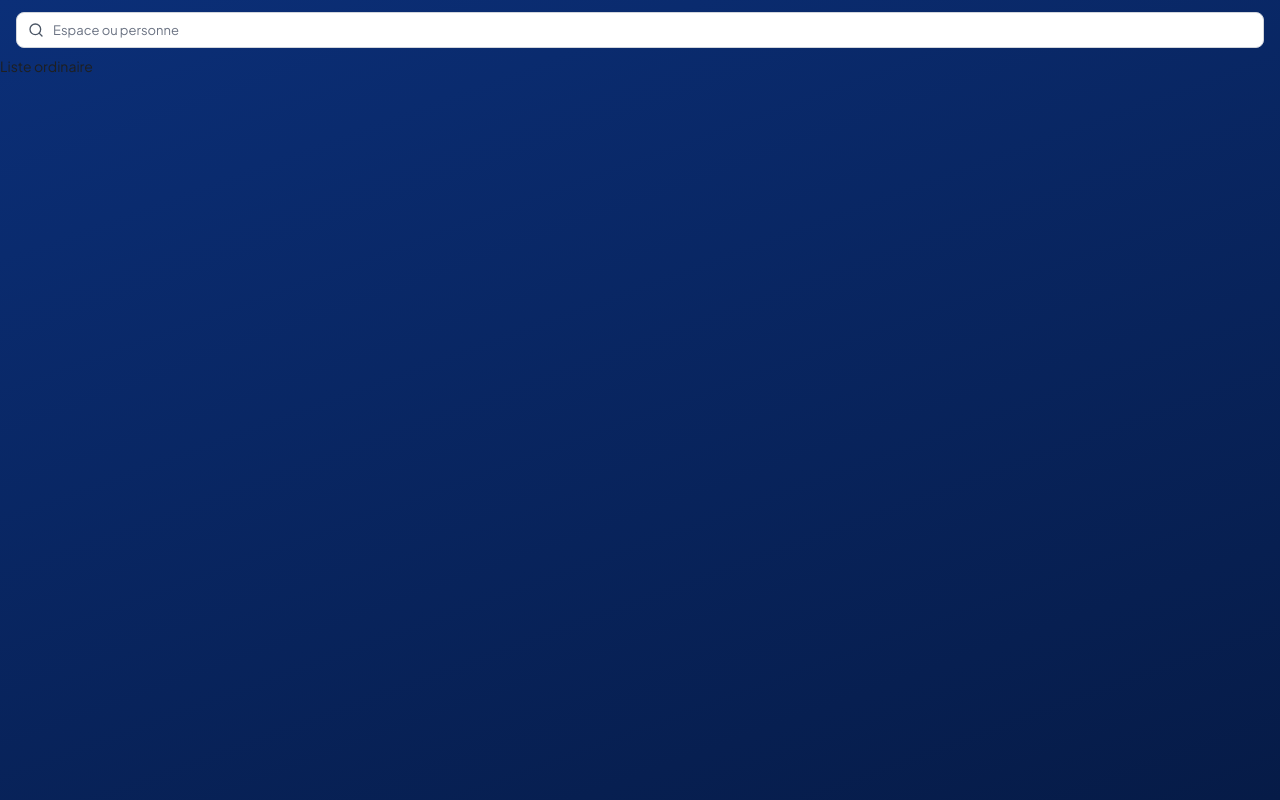
Test case: recherche des salons et messages › montre la raison du serveur quand la conversation ne s'ouvre pas
The image size is (1280, 800).
Step 1. Type "awa" into the search field → [640, 30], box [16, 12, 1264, 48]
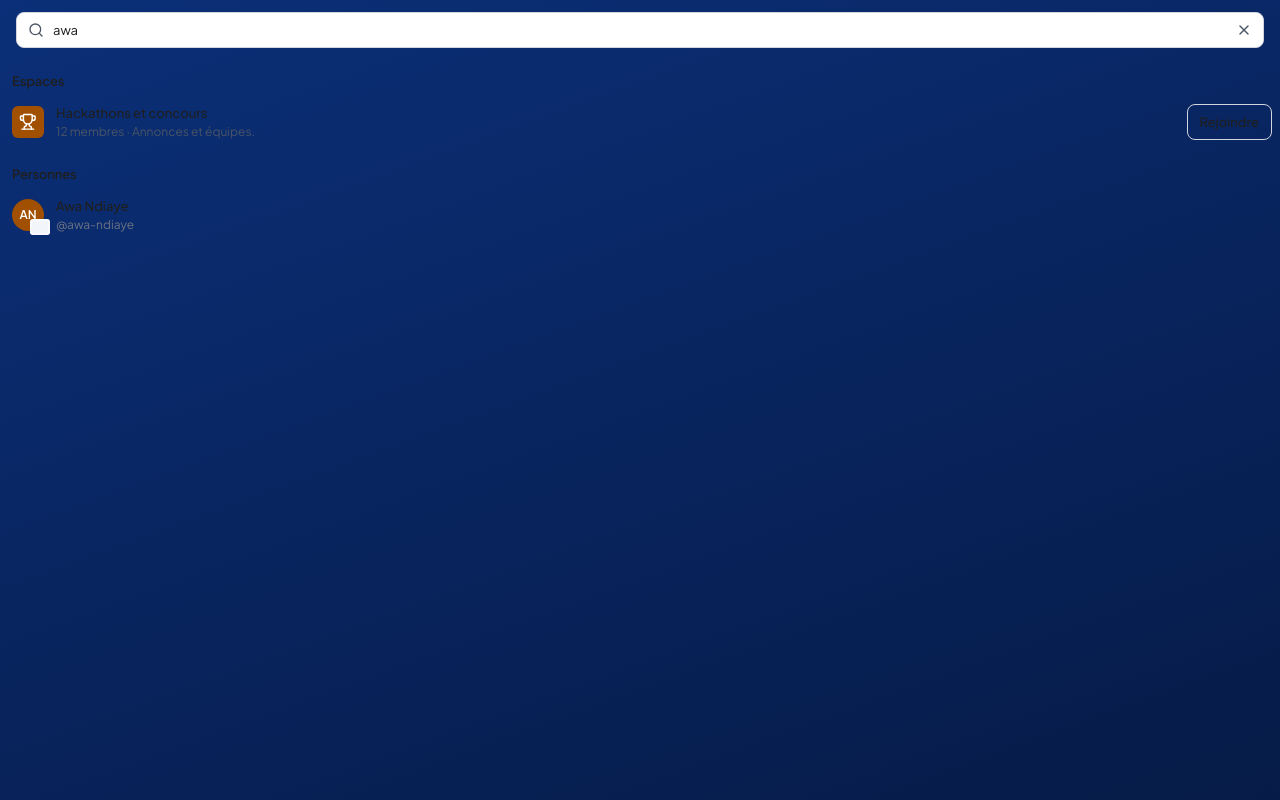
Step 2. Click the button "AN Awa Ndiaye @awa-ndiaye" → [28, 215], box [8, 188, 1272, 242]
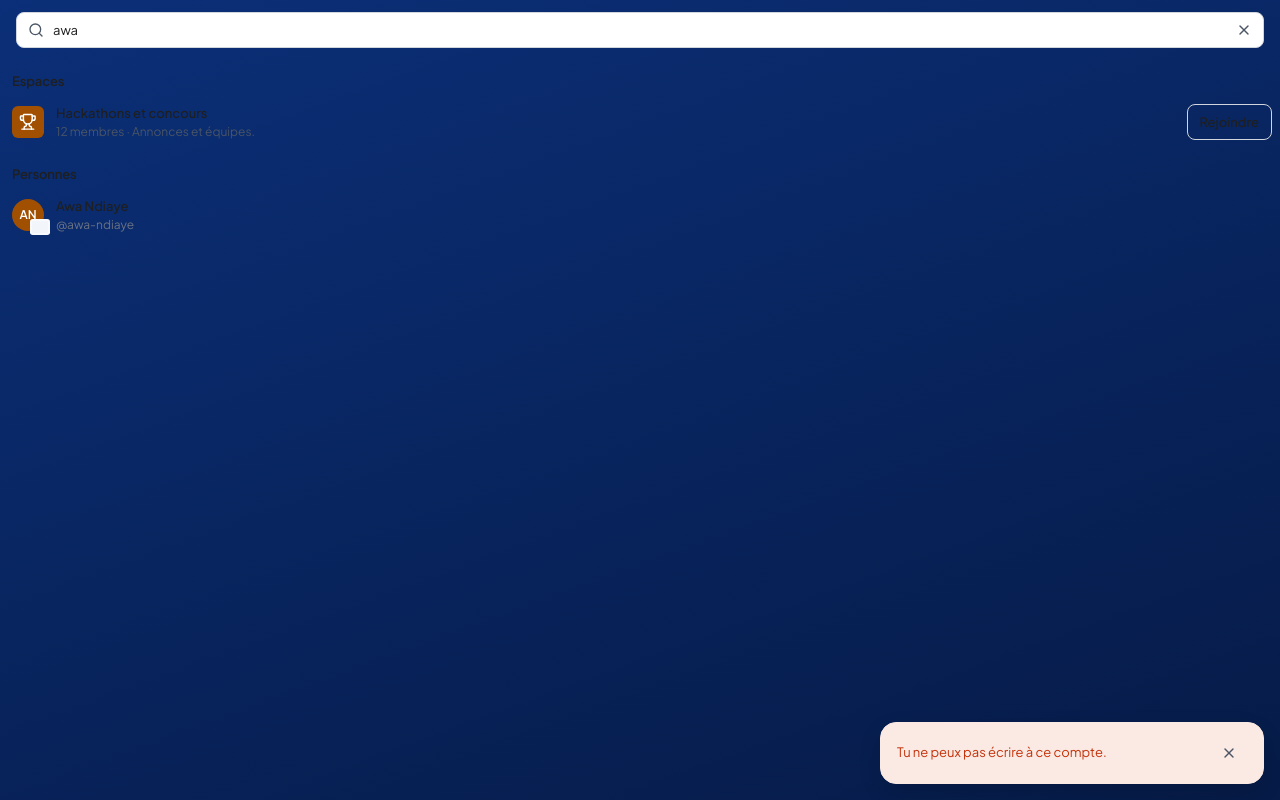
Now the text "Tu ne peux pas écrire à ce compte." is shown, box [897, 744, 1107, 760]
